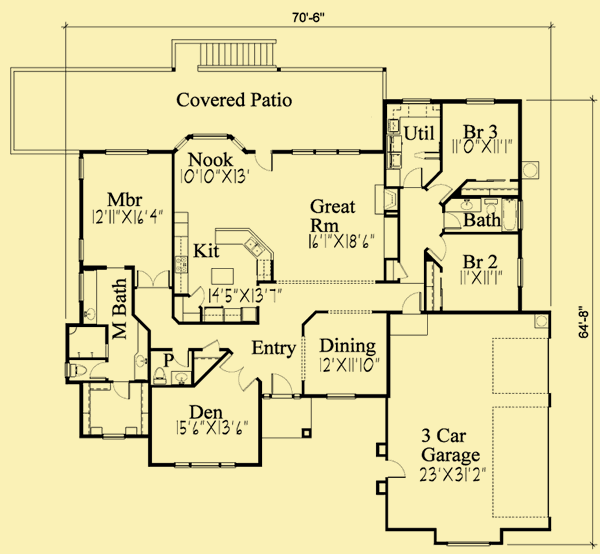door: (220, 353, 259, 393), (132, 266, 175, 293), (266, 370, 300, 399), (396, 289, 423, 317), (251, 146, 277, 175), (427, 181, 455, 205), (401, 166, 427, 191), (427, 234, 449, 263), (382, 456, 407, 481), (111, 376, 134, 402), (89, 359, 111, 384), (441, 211, 464, 234), (190, 283, 206, 307)
kitchen bar: (213, 225, 277, 278)
large sink: (68, 361, 89, 381), (151, 365, 169, 387), (482, 198, 499, 219)
small sink: (451, 195, 483, 216), (168, 368, 194, 387), (82, 300, 97, 325)
stairs: (168, 34, 283, 75)
tub: (501, 195, 522, 234)
windows: (289, 146, 361, 159), (170, 459, 241, 472), (441, 538, 494, 551), (189, 129, 231, 143), (103, 148, 151, 159), (397, 93, 437, 106), (462, 94, 497, 108), (514, 253, 527, 289), (324, 390, 358, 403), (73, 235, 87, 263), (96, 431, 128, 442), (75, 156, 88, 182)
